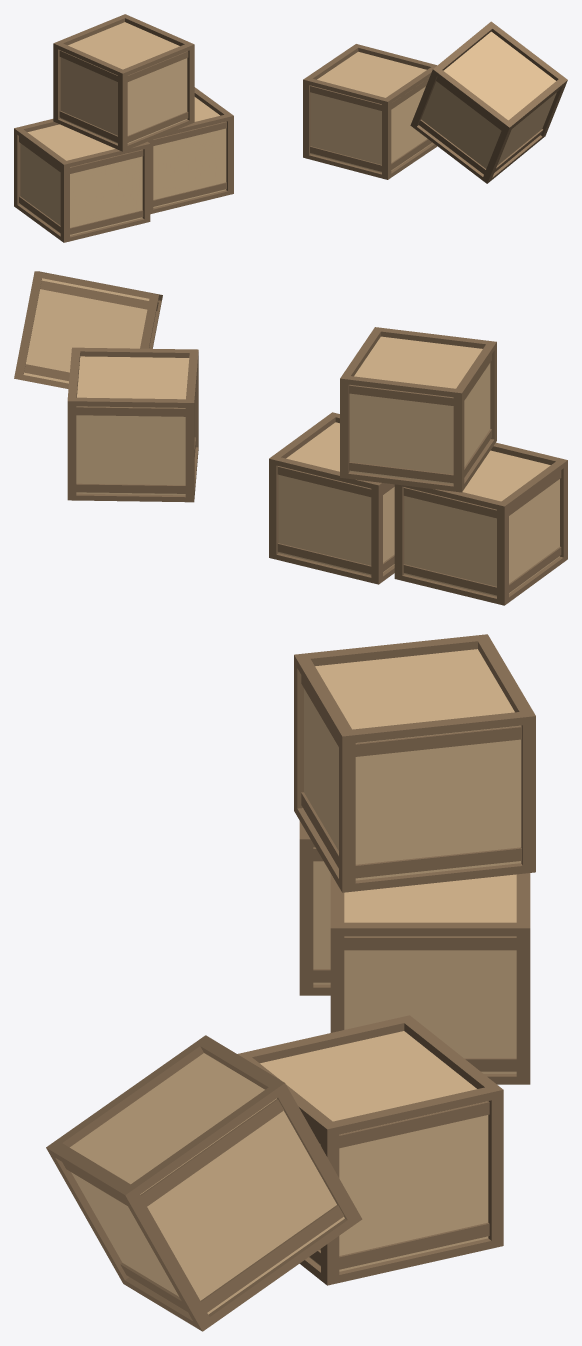
File: grotto_crate_pile_of_5.fbx
3 views of the same model, one above another, from view 1: azimuth 30°, elevation 25°; view 2: azimuth 150°, elevation 25°; view 3: azimuth 270°, elevation 25° (orthographic). The views are drawn at different scales.
Visible parts, largest first — view 1: Crate_Wood.004, Crate_Wood.002, Crate_Wood.003, Crate_Wood, Crate_Wood.001, Crate_CornerPost_3.002, Crate_CornerPost_3.003, Crate_CornerPost_3, Crate_TopFrame.018, Crate_TopFrame.019, Crate_CornerPost_1, Crate_CornerPost_1.001 (+44 smaller); view 2: Crate_Wood.002, Crate_Wood, Crate_Wood.003, Crate_Wood.001, Crate_Wood.004, Crate_CornerPost_2, Crate_CornerPost_2.002, Crate_CornerPost_2.001, Crate_CornerPost_3.004, Crate_CornerPost_0.003, Crate_CornerPost_2.003, Crate_Band.037 (+36 smaller); view 3: Crate_Wood.002, Crate_Wood.004, Crate_Wood.003, Crate_Wood.001, Crate_CornerPost_2.004, Crate_CornerPost_1.002, Crate_Band.014, Crate_TopFrame.006, Crate_CornerPost_0.003, Crate_CornerPost_3.004, Crate_CornerPost_0.001, Crate_TopFrame.010 (+26 smaller).
Part boxes in pixels (<box>): Crate_Wood.004: <box>419,31,556,174</box>; Crate_Wood.002: <box>60,22,187,143</box>; Crate_Wood.003: <box>310,51,432,172</box>; Crate_Wood: <box>20,124,142,235</box>; Crate_Wood.001: <box>153,97,226,207</box>; Crate_CornerPost_3.002: <box>118,69,127,151</box>; Crate_CornerPost_3.003: <box>382,98,391,179</box>; Crate_CornerPost_3: <box>60,161,69,242</box>; Crate_TopFrame.018: <box>437,70,507,125</box>; Crate_TopFrame.019: <box>491,25,562,80</box>; Crate_CornerPost_1: <box>142,141,150,222</box>; Crate_CornerPost_1.001: <box>225,113,233,195</box>; Crate_Wood.002: <box>349,336,490,484</box>; Crate_Wood: <box>404,450,559,596</box>; Crate_Wood.003: <box>76,356,189,495</box>; Crate_Wood.001: <box>278,422,394,575</box>; Crate_Wood.004: <box>23,278,149,383</box>; Crate_CornerPost_2: <box>497,501,508,605</box>; Crate_CornerPost_2.002: <box>453,389,464,492</box>; Crate_CornerPost_2.001: <box>371,482,382,584</box>; Crate_CornerPost_3.004: <box>14,271,42,380</box>; Crate_CornerPost_0.003: <box>67,397,76,500</box>; Crate_CornerPost_2.003: <box>185,399,194,502</box>; Crate_Band.037: <box>40,280,148,309</box>; Crate_Wood.002: <box>304,649,521,880</box>; Crate_Wood.004: <box>70,1053,344,1314</box>; Crate_Wood.003: <box>260,1031,488,1271</box>; Crate_Wood.001: <box>344,874,516,1073</box>; Crate_CornerPost_2.004: <box>120,1184,213,1331</box>; Crate_CornerPost_1.002: <box>339,729,355,892</box>; Crate_Band.014: <box>344,936,516,950</box>; Crate_TopFrame.006: <box>344,922,516,936</box>; Crate_CornerPost_0.003: <box>485,1085,503,1248</box>; Crate_CornerPost_3.004: <box>269,1079,362,1226</box>; Crate_CornerPost_0.001: <box>516,922,530,1084</box>; Crate_TopFrame.010: <box>352,712,522,742</box>.
Size of the model in its own units: 17.14 by 5.61 by 7.9.
